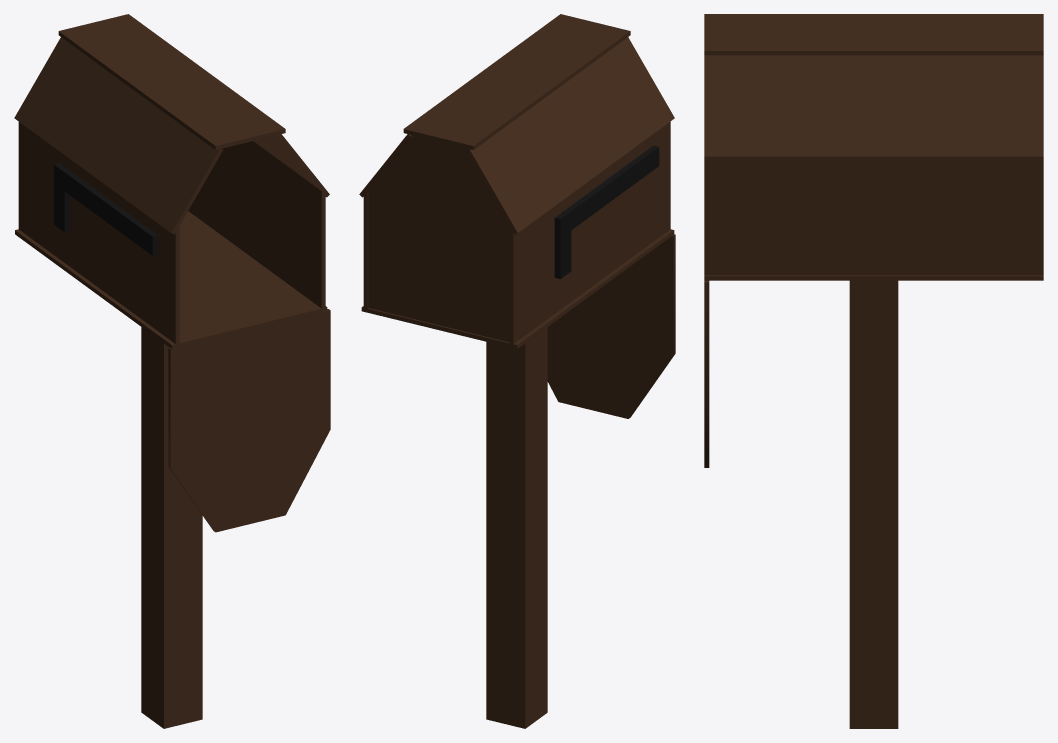
The model's file is s_mailbox.FBX.
3 views of the same model, side by side, from view 1: azimuth 30°, elevation 25°; view 2: azimuth 150°, elevation 25°; view 3: azimuth 270°, elevation 25° (orthographic). The views are drawn at different scales.
Parts seen in each view (by area): view 1: s_mailbox, p_door, p_flag; view 2: s_mailbox, p_door, p_flag; view 3: s_mailbox, p_door.
Part boxes in pixels (<box>): s_mailbox: <box>14,14,329,728</box>; p_door: <box>168,309,330,532</box>; p_flag: <box>54,163,158,255</box>; s_mailbox: <box>359,14,674,728</box>; p_door: <box>547,234,675,418</box>; p_flag: <box>554,145,659,278</box>; s_mailbox: <box>704,14,1043,728</box>; p_door: <box>704,280,709,467</box>.
Bounding box in the file's own units: 0.2067 × 0.7808 × 0.3496.
